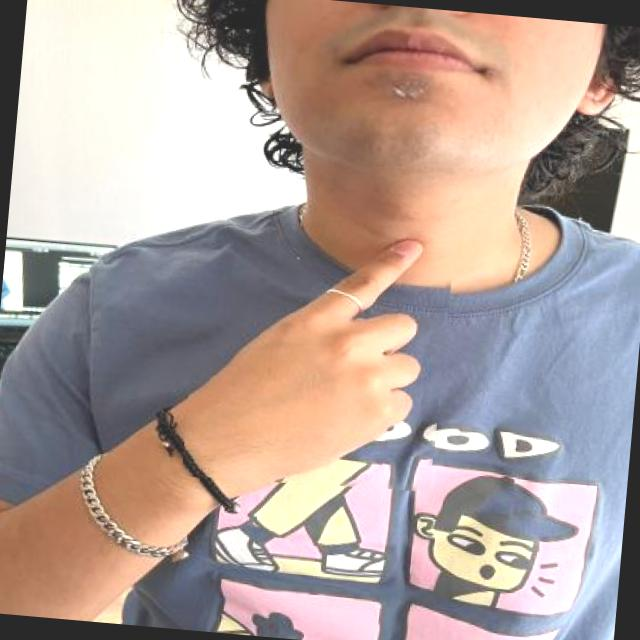Q: (181, 205, 457, 498)
